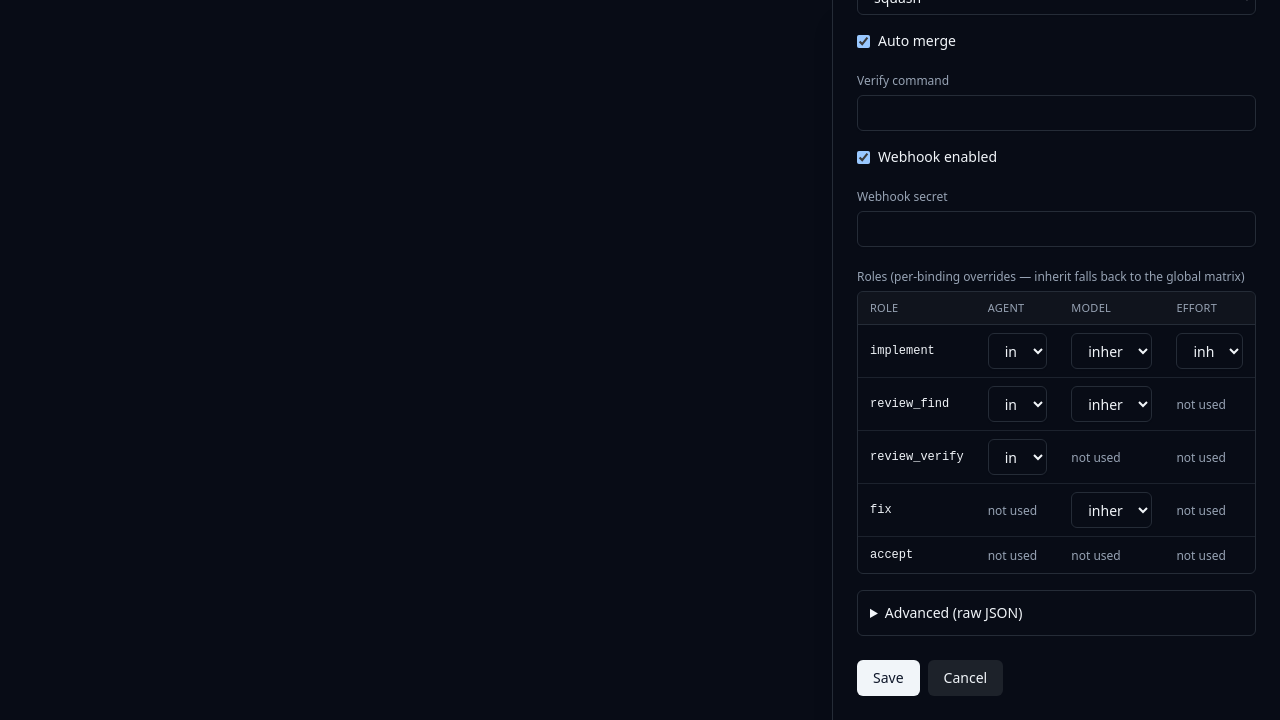
BindingForm › renders a 422 validation error on the exact field
(page scrolled)
Click the button "Save" at (888, 678), box x1=857 y1=660 x2=920 y2=696
(page scrolled)
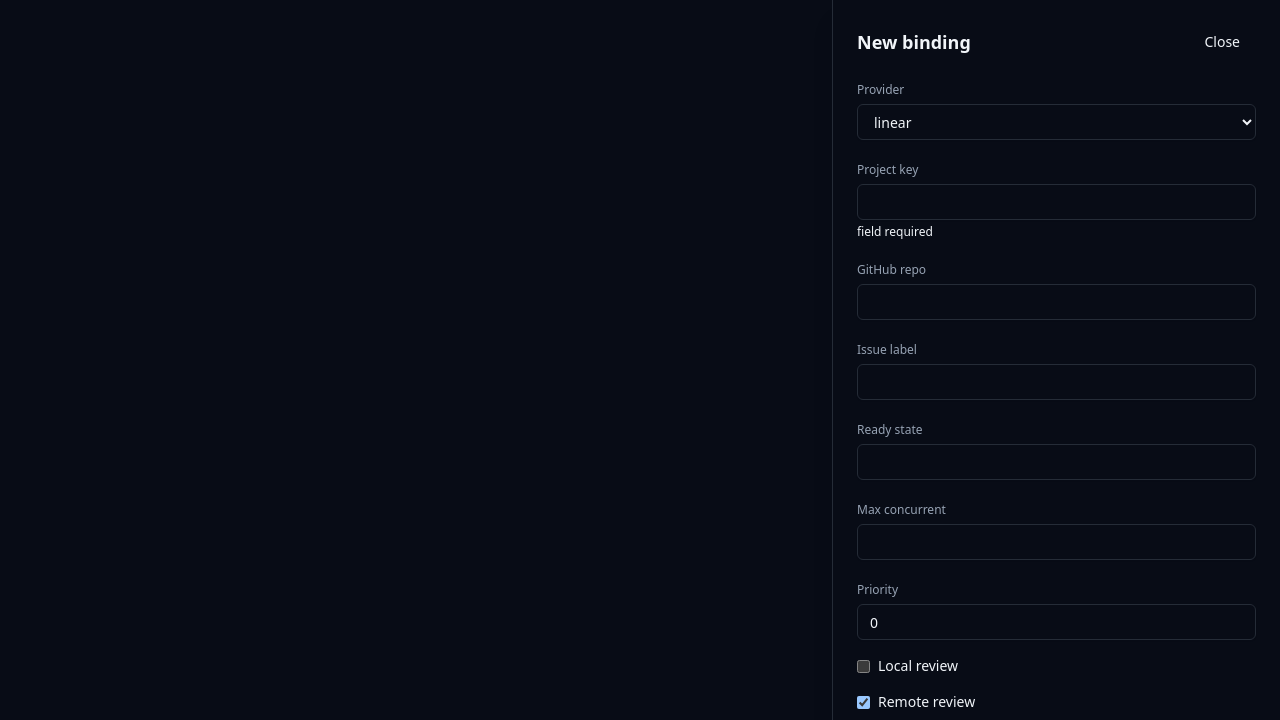
Expected: the text "field required" is shown, x1=857 y1=223 x2=933 y2=240
